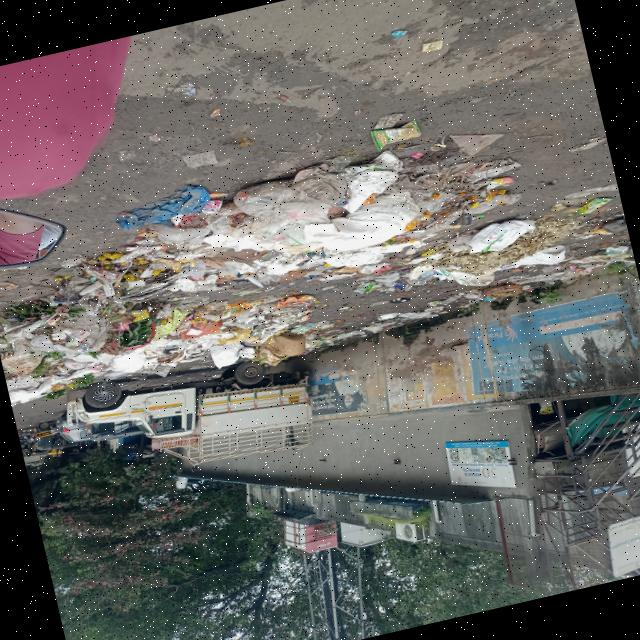garbage: (0, 138, 579, 413)
